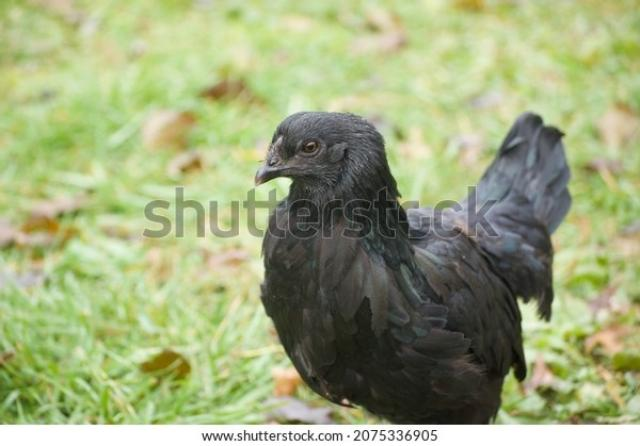Chicken: (256, 110, 569, 424)
